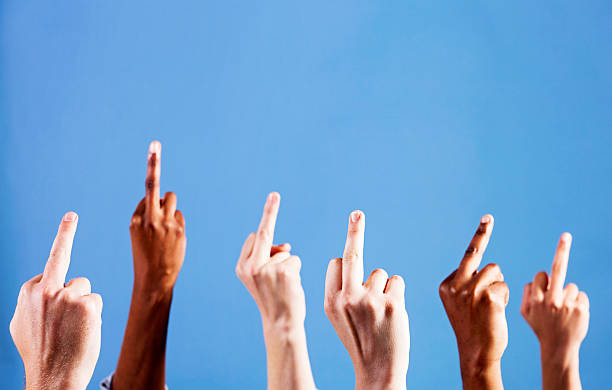insulting_gesture: (7, 208, 100, 390), (321, 209, 410, 383), (439, 212, 511, 373), (123, 141, 188, 308), (236, 189, 306, 338), (520, 230, 594, 359)
